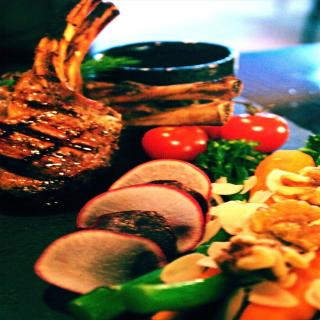tomato: (221, 111, 294, 151), (134, 125, 218, 159)
